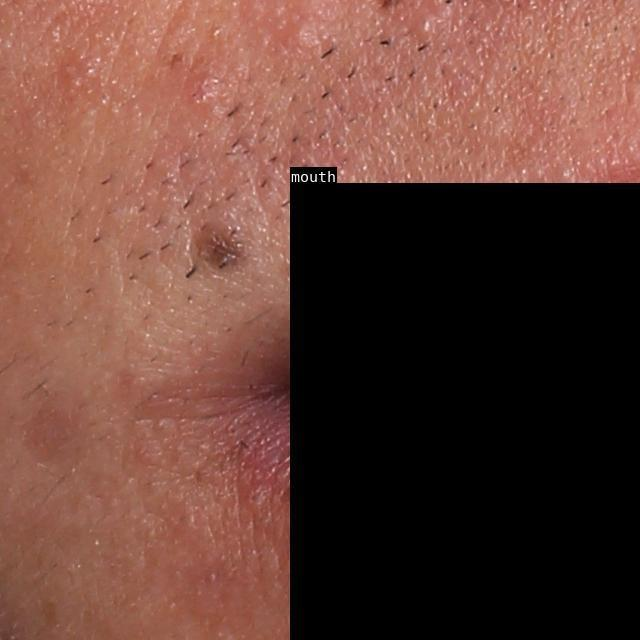comedo: (409, 11, 442, 43), (286, 21, 313, 45)
nevus: (200, 224, 247, 277)
